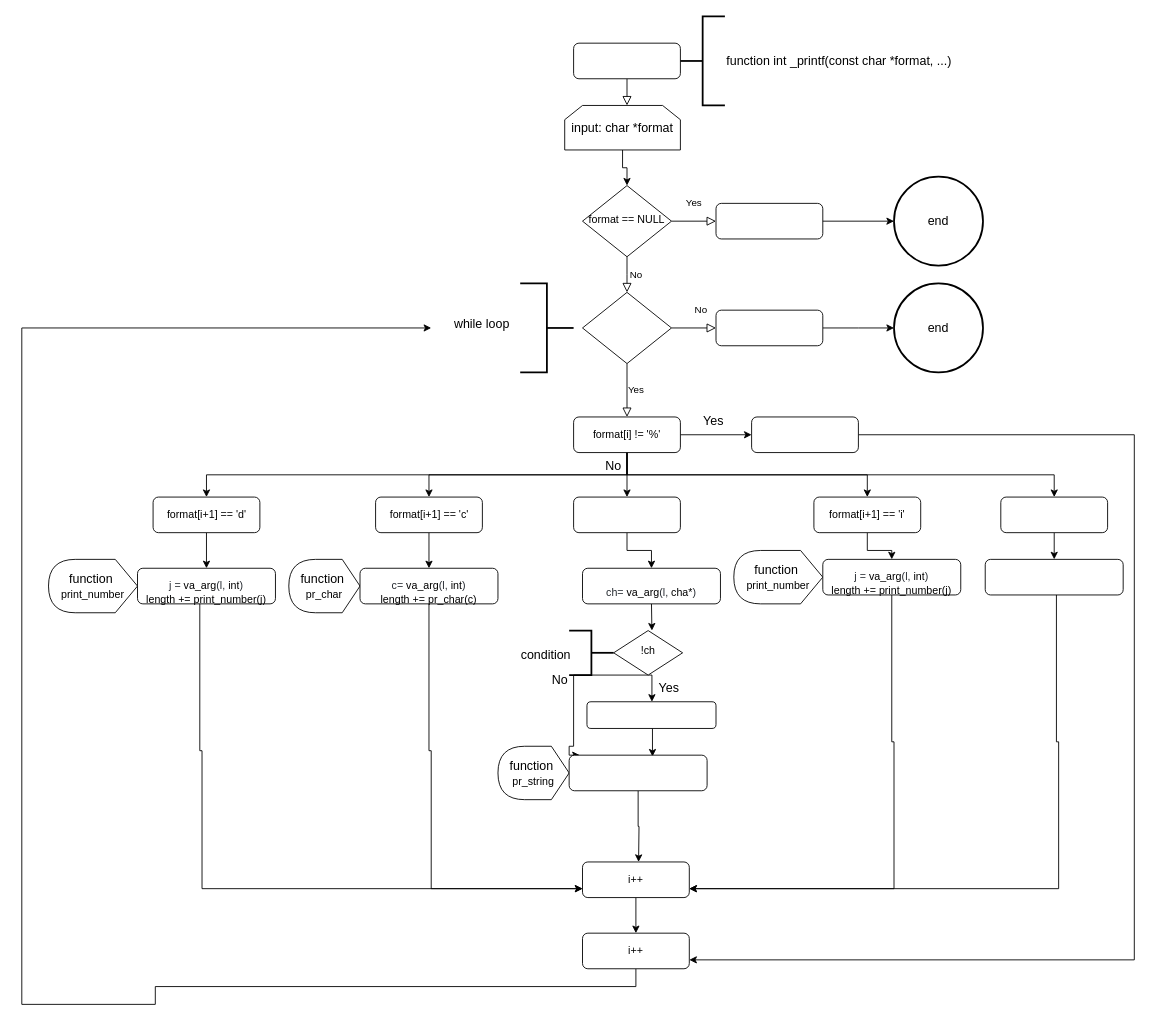
This 1157x1027 diagram has some shape labels left out. Here are the shapes that lost their labels. From the top down, the centre of each, then its label:
pixel 626 60: start
pixel 769 220: return (-1)
pixel 627 327: format[i]
pixel 769 327: return (length)
pixel 804 434: print format[i] and length++
pixel 626 514: format[i+1] =='s'
pixel 1054 514: format[i+1] == '%'
pixel 1053 576: print("%") length++
pixel 651 714: ch = "(null)"
pixel 637 772: length += pr_string(ch)
